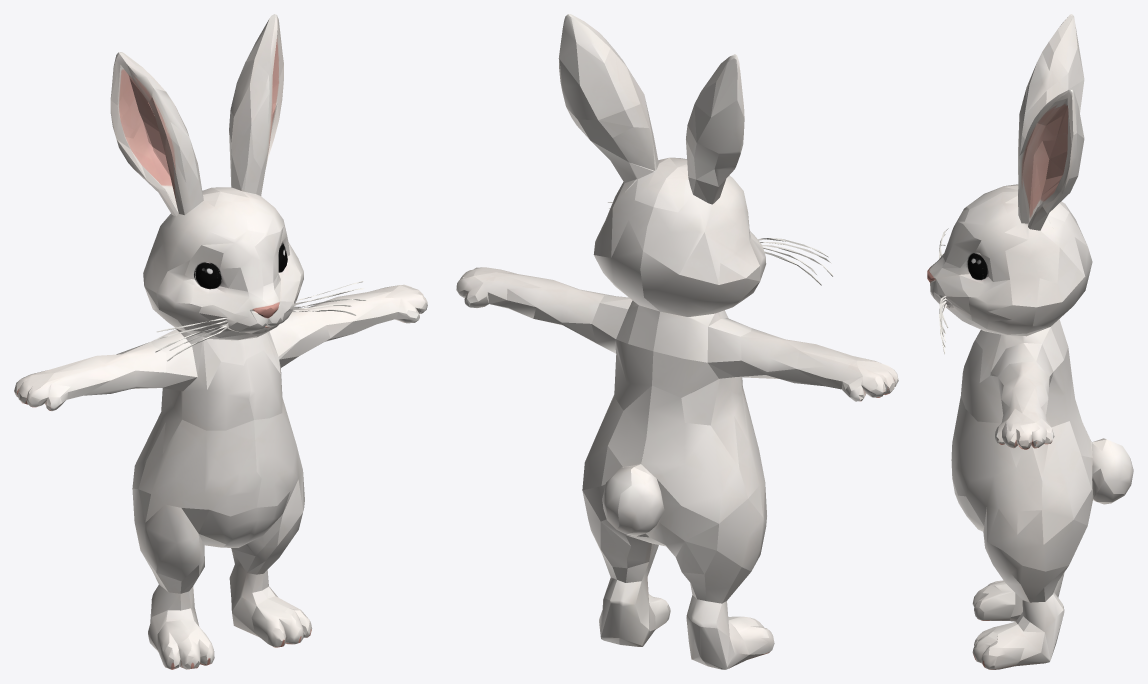
File: rabbit-tpose.glb
3 views of the same model, side by side, from view 1: azimuth 30°, elevation 25°; view 2: azimuth 150°, elevation 25°; view 3: azimuth 270°, elevation 25° (orthographic). The views are drawn at different scales.
Visible parts, largest first — view 1: output_unwrapped; view 2: output_unwrapped; view 3: output_unwrapped.
Part boxes in pixels (x1,y1,x2,y2): output_unwrapped: [14, 14, 427, 669]; output_unwrapped: [456, 14, 898, 669]; output_unwrapped: [927, 14, 1133, 669].
Size of the model in its own units: 1.36 by 1.9 by 0.6085.
1 material, 1 textured.
